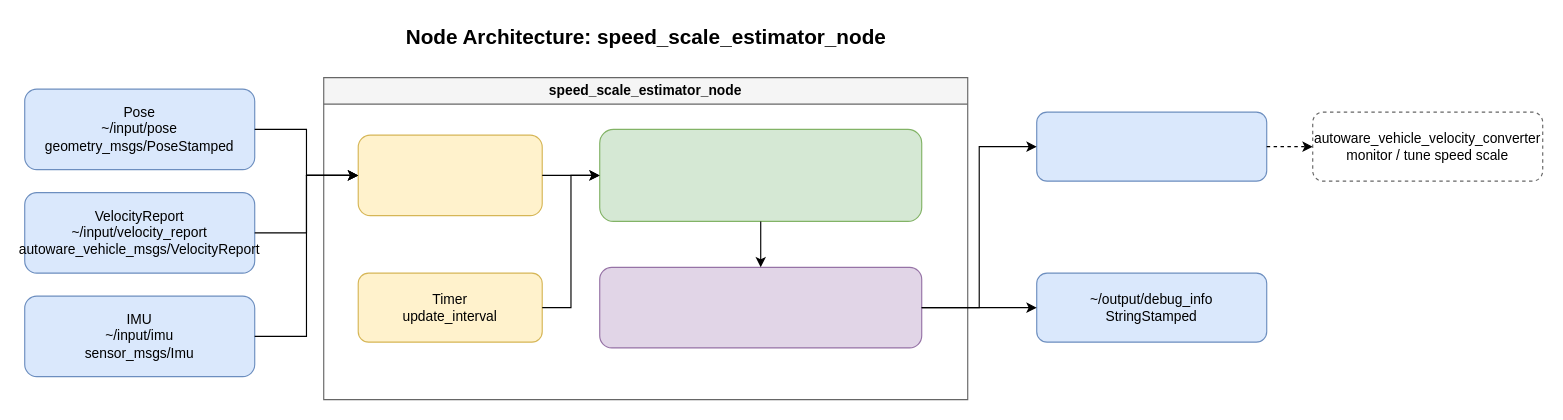
Image size: 1563x420. Some labels were removed from this diagram. The shapes that lost their labels are listed below. From the top down, each one's centre as x and y in pixels, then its label:
At point 1151,146: "~/output/scale_factor Float32Stamped".
At point 449,175: "Polling subscribers pose / velocity_report / imu".
At point 760,174: "SpeedScaleEstimatorProcessor + SpeedScaleEstimator (see algorithm diagram)".
At point 760,307: "Publishers scale_factor: on successful update debug_info: always".
